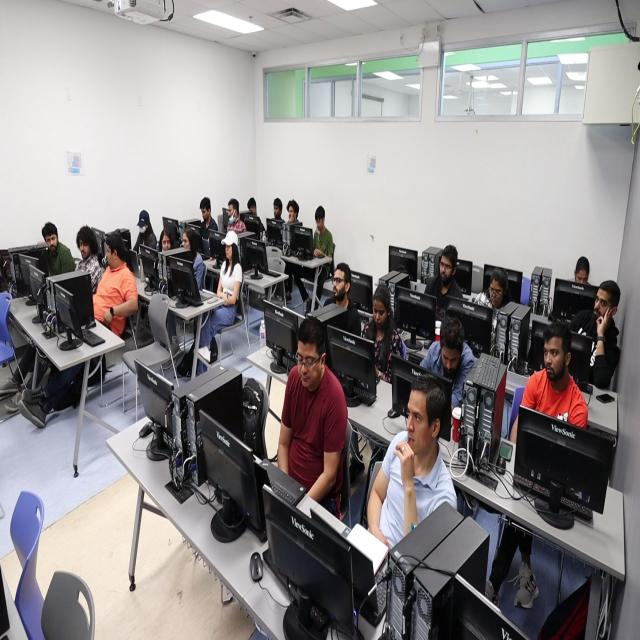Attentive: (406, 390, 429, 454), (543, 337, 565, 382), (594, 287, 609, 318), (332, 268, 346, 300), (440, 254, 452, 279), (225, 243, 233, 260), (288, 206, 296, 220)
Distracted: (296, 340, 320, 387), (441, 343, 460, 376), (490, 278, 504, 306), (373, 298, 386, 326), (44, 234, 59, 252), (105, 245, 116, 268), (78, 238, 89, 259), (576, 268, 588, 285), (227, 204, 237, 221), (316, 214, 324, 232), (182, 232, 190, 250), (162, 235, 170, 251), (273, 205, 281, 219), (201, 208, 209, 222)
